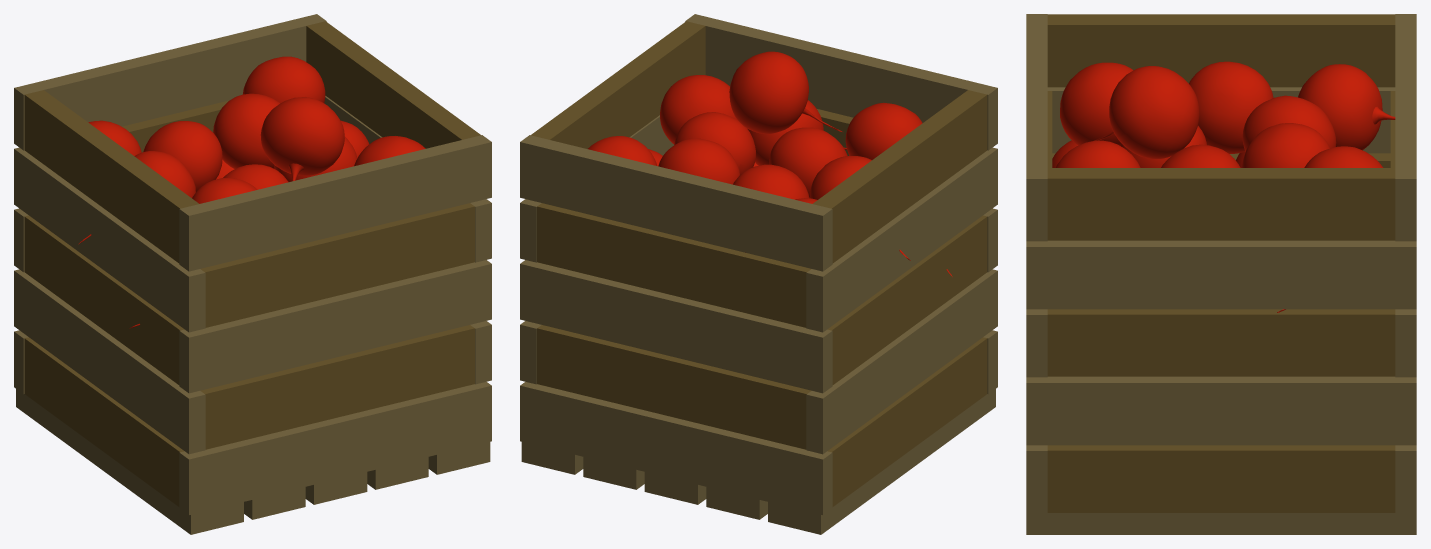
Rendered from Beet_Сrop.fbx.
3 renders of one model, left to right at view 1: azimuth 30°, elevation 25°; view 2: azimuth 150°, elevation 25°; view 3: azimuth 270°, elevation 25°, orthographic. The views are drawn at different scales.
Visible parts, largest first — view 1: Beet_Сrop; view 2: Beet_Сrop; view 3: Beet_Сrop.
Boxes of the visible parts, left/top/right/bottom form: Beet_Сrop: left=14, top=14, right=491, bottom=534; Beet_Сrop: left=520, top=14, right=997, bottom=534; Beet_Сrop: left=1026, top=14, right=1416, bottom=534.
Bounding box in the file's own units: 39.03 × 37.5 × 41.63.
